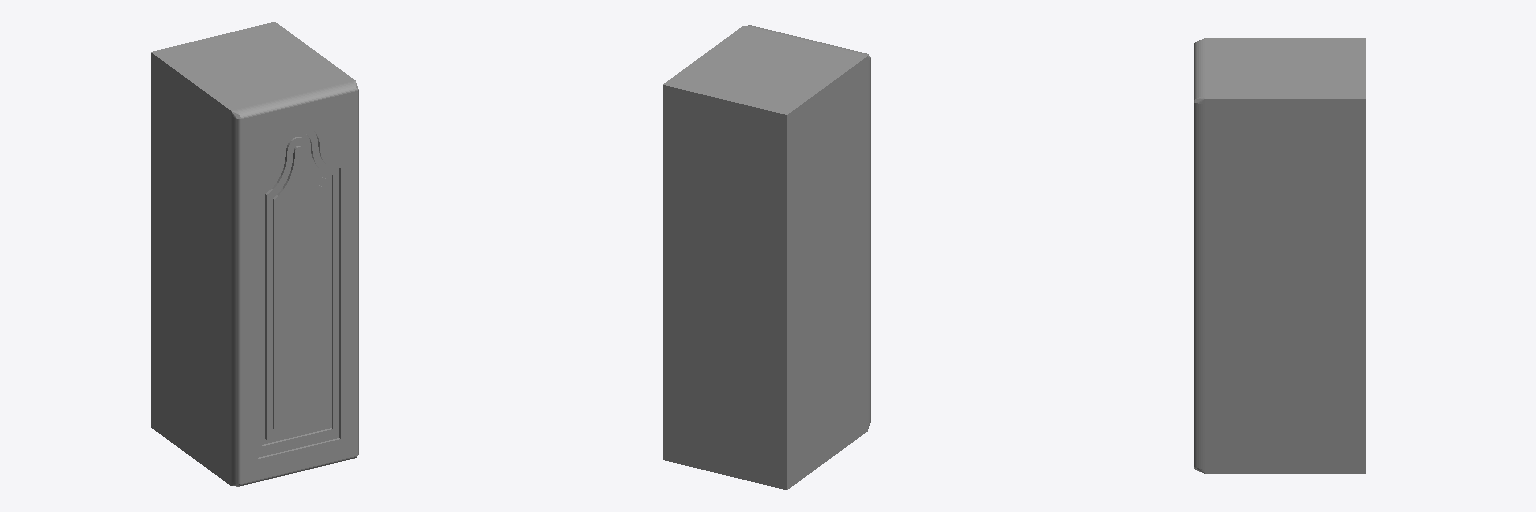
The model's file is single-wall-unit-250.obj.
The picture shows the model from 3 angles: view 1: azimuth 30°, elevation 25°; view 2: azimuth 150°, elevation 25°; view 3: azimuth 270°, elevation 25°; orthographic projection.
Visible parts, largest first — view 1: Cube.003_Cube.008, Cube.002_Cube.004, Cube_Cube.002, Cube.001_Cube.003; view 2: Cube_Cube.002, Cube.002_Cube.004, Cube.001_Cube.003, Cube.003_Cube.008; view 3: Cube.001_Cube.003, Cube_Cube.002, Cube.003_Cube.008, Cube.002_Cube.004.
Part boxes in pixels (bbox=[...]): Cube.003_Cube.008: bbox=[231, 81, 358, 486]; Cube.002_Cube.004: bbox=[151, 50, 237, 485]; Cube_Cube.002: bbox=[159, 23, 347, 108]; Cube.001_Cube.003: bbox=[268, 22, 355, 81]; Cube_Cube.002: bbox=[670, 28, 859, 488]; Cube.002_Cube.004: bbox=[780, 54, 867, 489]; Cube.001_Cube.003: bbox=[663, 26, 749, 461]; Cube.003_Cube.008: bbox=[746, 25, 870, 428]; Cube.001_Cube.003: bbox=[1205, 95, 1365, 473]; Cube_Cube.002: bbox=[1205, 42, 1365, 94]; Cube.003_Cube.008: bbox=[1194, 38, 1204, 473]; Cube.002_Cube.004: bbox=[1205, 38, 1365, 41].
Size of the model in its own units: 50 by 144 by 60.